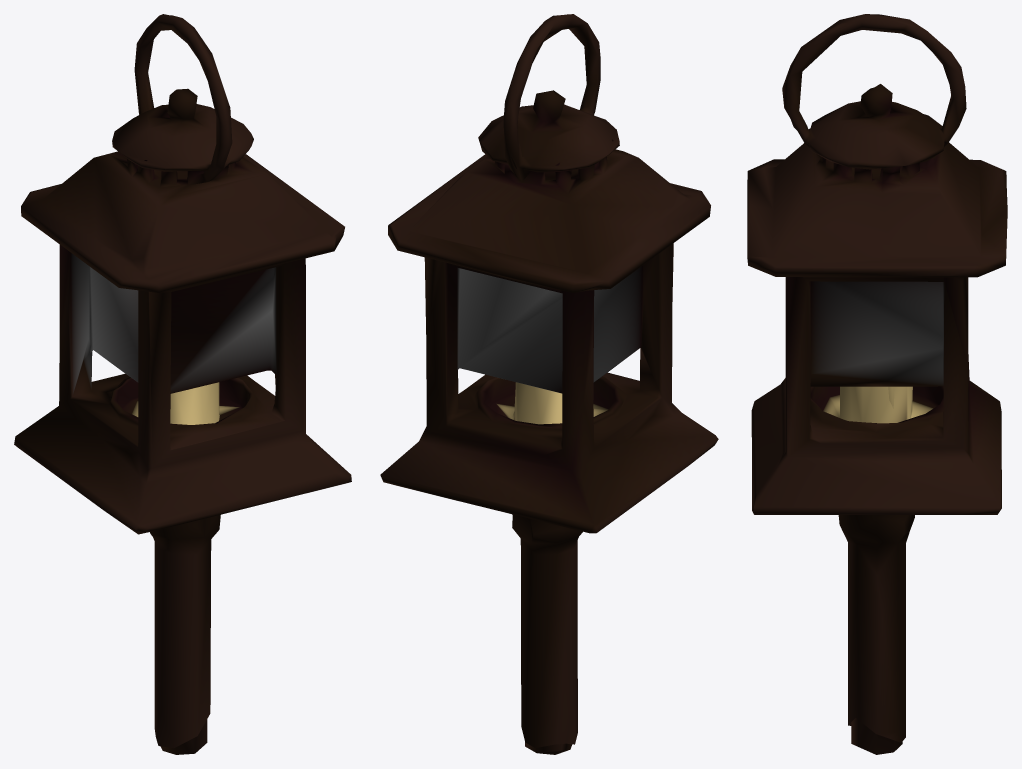
File: gen3d-grave-lantern-lod1.glb
3 renders of one model, left to right at view 1: azimuth 30°, elevation 25°; view 2: azimuth 150°, elevation 25°; view 3: azimuth 270°, elevation 25°, orthographic.
Visible parts, largest first — view 1: part_0; view 2: part_0; view 3: part_0.
Part boxes in pixels (x1,y1,x2,y2): part_0: (14, 14, 351, 754); part_0: (380, 14, 718, 754); part_0: (747, 14, 1007, 754).
Size of the model in its own units: 0.3242 by 0.9994 by 0.3233.
